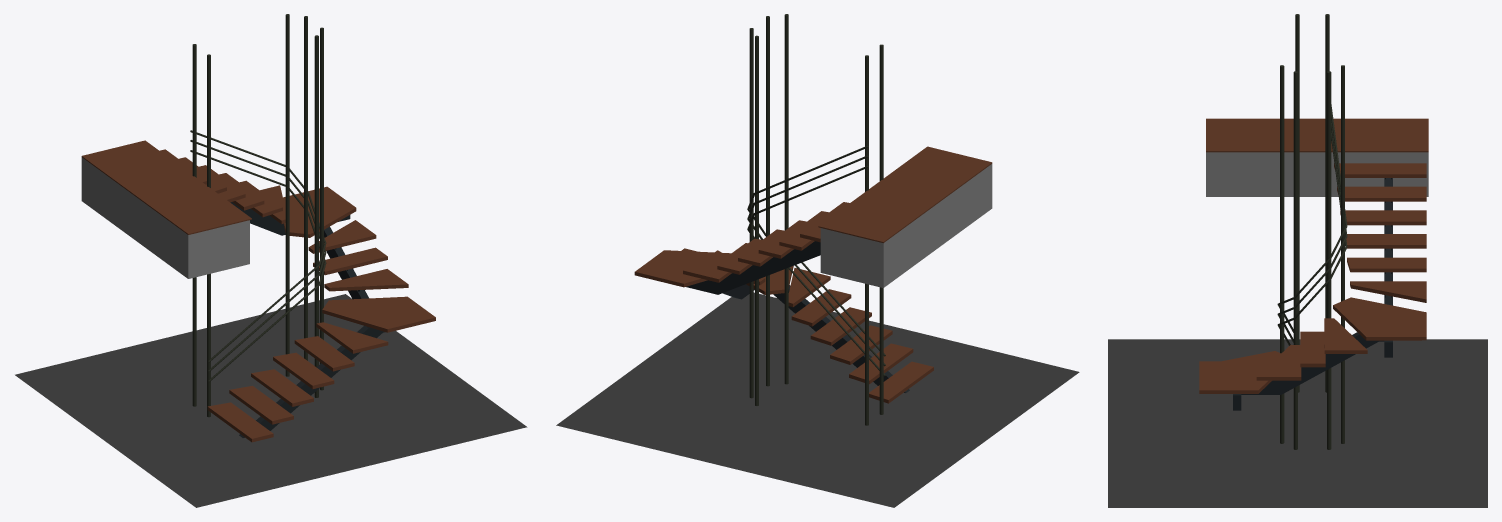
Rendered from stair.fbx.
3 renders of one model, left to right at view 1: azimuth 30°, elevation 25°; view 2: azimuth 150°, elevation 25°; view 3: azimuth 270°, elevation 25°, orthographic. The views are drawn at different scales.
Parts seen in each view (by area): view 1: Plane001, Box001, Circle001, Line016, Line026, Line025, Line004, Line019, Line006, Line008, Line010, Line012 (+8 smaller); view 2: Plane001, Box001, Circle001, Line026, Line025, Line002, Line004, Line006, Line012, Line010, Line008, Line014 (+4 smaller); view 3: Plane001, Box001, Circle001, Line026, Line025, Line016, Line003, Line019, Line023, Line021, Line002, Line040 (+2 smaller).
Part boxes in pixels (x1=…): Plane001: x1=15, y1=294, x2=527, y2=507; Box001: x1=81, y1=140, x2=251, y2=278; Circle001: x1=192, y1=14, x2=323, y2=417; Line016: x1=322, y1=296, x2=435, y2=332; Line026: x1=160, y1=149, x2=285, y2=224; Line025: x1=283, y1=186, x2=356, y2=237; Line004: x1=207, y1=402, x2=273, y2=442; Line019: x1=324, y1=269, x2=408, y2=291; Line006: x1=229, y1=386, x2=293, y2=424; Line008: x1=251, y1=369, x2=313, y2=406; Line010: x1=273, y1=352, x2=334, y2=389; Line012: x1=294, y1=336, x2=354, y2=371; Plane001: x1=556, y1=292, x2=1079, y2=507; Box001: x1=818, y1=146, x2=992, y2=287; Circle001: x1=749, y1=14, x2=883, y2=425; Line026: x1=683, y1=202, x2=849, y2=282; Line025: x1=634, y1=250, x2=733, y2=287; Line002: x1=686, y1=241, x2=820, y2=294; Line004: x1=869, y1=361, x2=933, y2=403; Line006: x1=849, y1=343, x2=913, y2=384; Line012: x1=791, y1=289, x2=851, y2=326; Line010: x1=810, y1=307, x2=871, y2=345; Line008: x1=830, y1=325, x2=892, y2=364; Line014: x1=788, y1=268, x2=830, y2=307; Plane001: x1=1108, y1=339, x2=1487, y2=507; Box001: x1=1206, y1=118, x2=1428, y2=196; Circle001: x1=1280, y1=14, x2=1344, y2=449; Line026: x1=1334, y1=163, x2=1426, y2=302; Line025: x1=1333, y1=297, x2=1426, y2=340; Line016: x1=1199, y1=351, x2=1280, y2=393; Line003: x1=1241, y1=332, x2=1384, y2=394; Line019: x1=1256, y1=344, x2=1301, y2=380; Line023: x1=1324, y1=318, x2=1367, y2=353; Line021: x1=1300, y1=331, x2=1325, y2=367; Line002: x1=1384, y1=178, x2=1392, y2=357; Line040: x1=1277, y1=104, x2=1347, y2=332.
Bounding box in the file's own units: 475 × 512 × 451.
